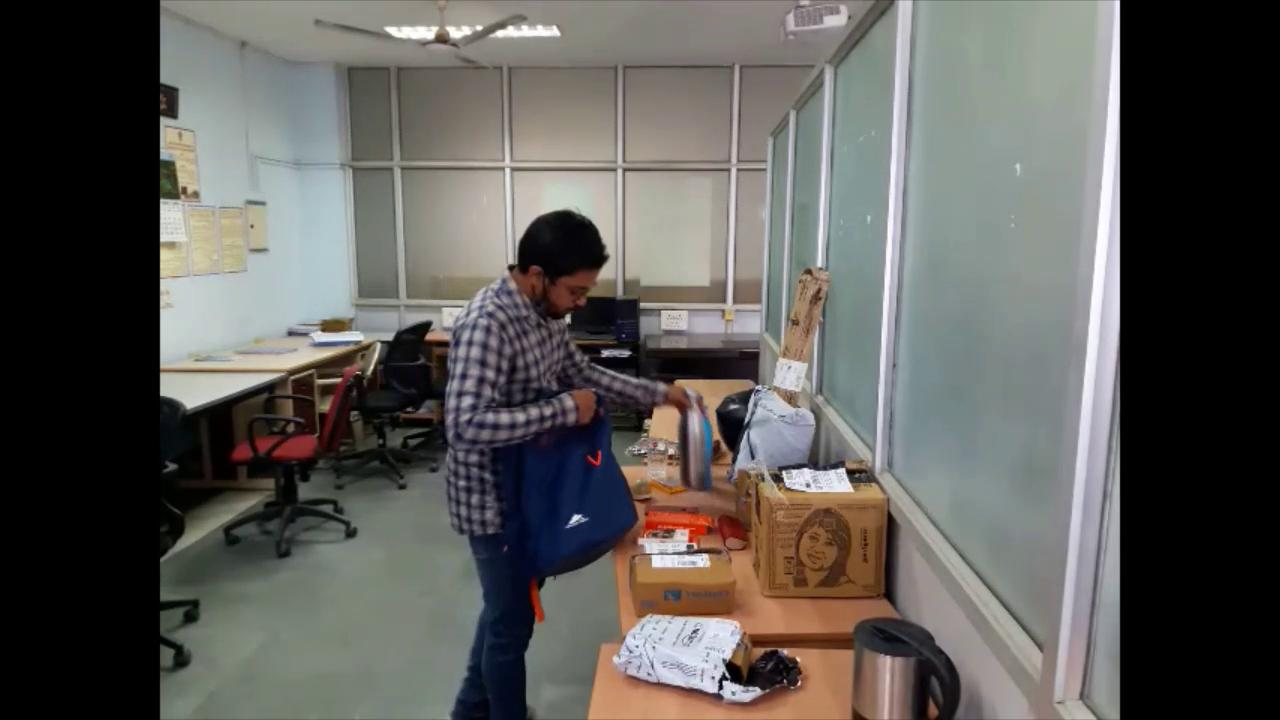shoplifting: (442, 182, 705, 720)
